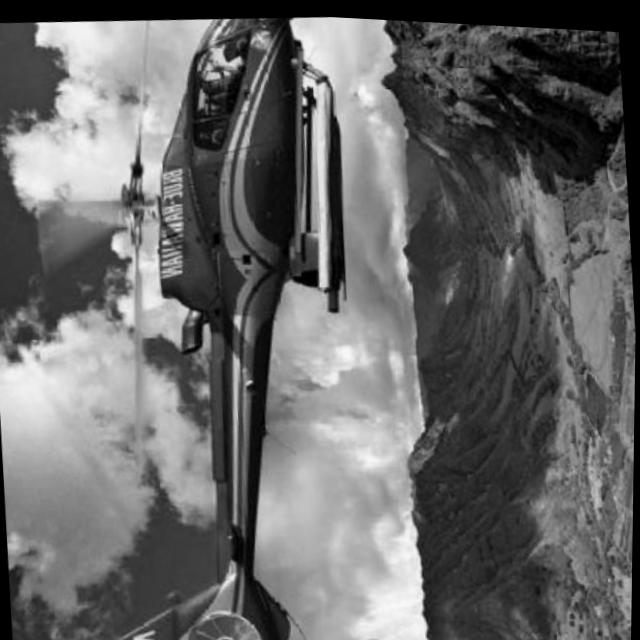helikopter: (35, 2, 382, 640)
